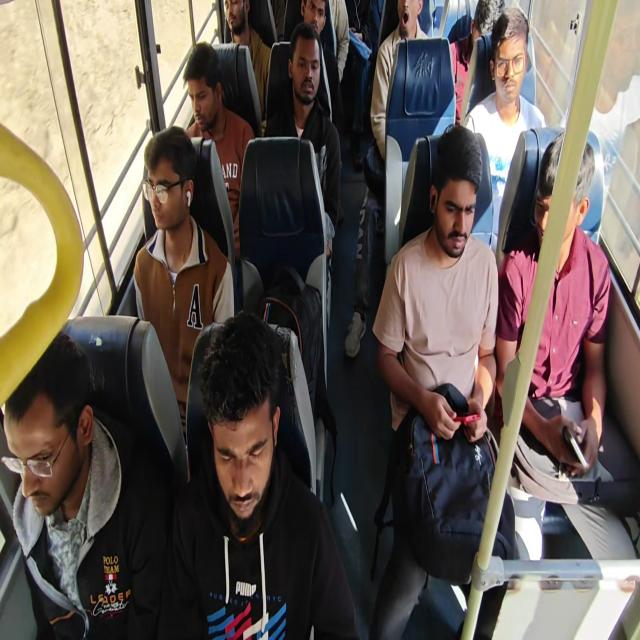person: (180, 330, 343, 640), (0, 335, 130, 640), (423, 130, 498, 291), (130, 109, 195, 259), (527, 147, 590, 269), (278, 16, 322, 101), (175, 32, 216, 118), (495, 17, 528, 113), (215, 0, 278, 46), (394, 0, 428, 84), (331, 6, 372, 74), (470, 0, 507, 63), (298, 0, 327, 48)
